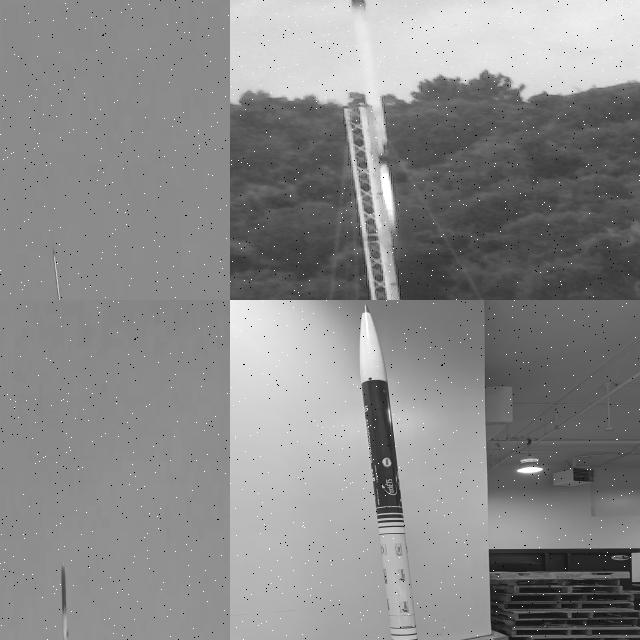Rocket: (359, 304, 418, 640), (346, 0, 394, 163), (55, 561, 75, 640), (53, 249, 65, 300)
